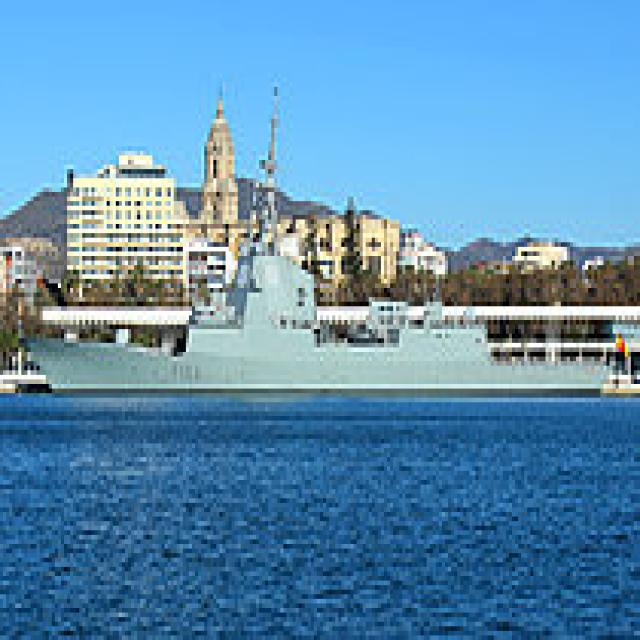Warship: (16, 238, 606, 398)
